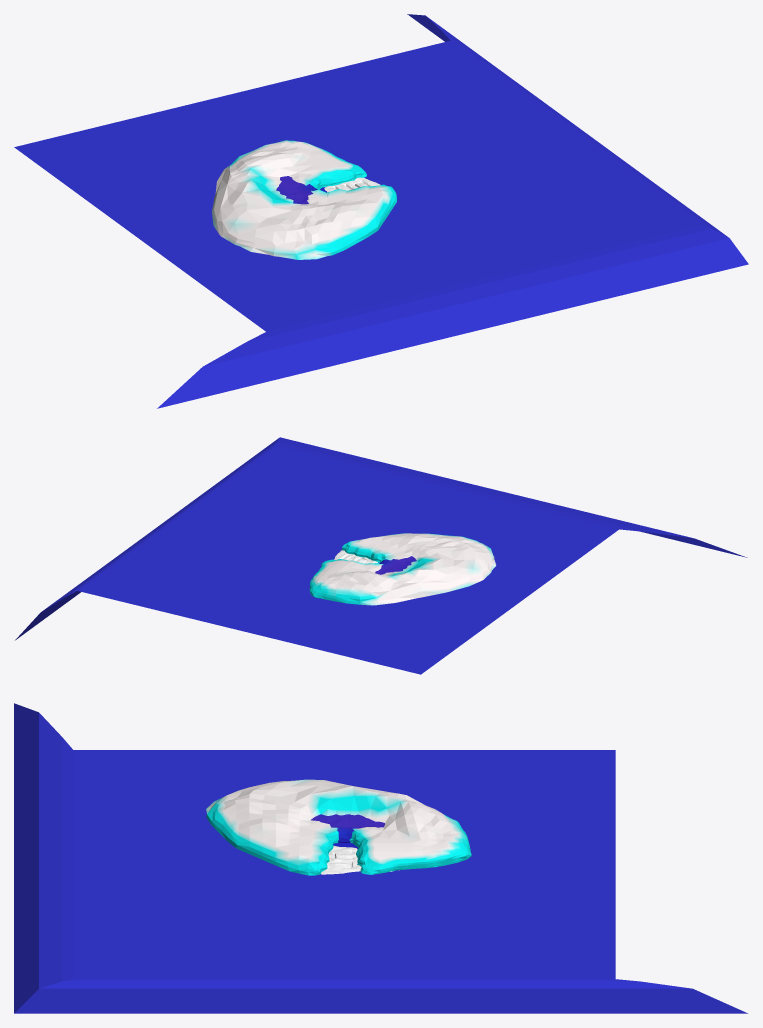
The model's file is beachhead.fbx.
3 renders of one model, top to bottom at view 1: azimuth 30°, elevation 25°; view 2: azimuth 150°, elevation 25°; view 3: azimuth 270°, elevation 25°, orthographic. The views are drawn at different scales.
Visible parts, largest first — view 1: OceanPlane, Island_base, LakeWaterfallPlane; view 2: OceanPlane, Island_base, LakeWaterfallPlane; view 3: OceanPlane, Island_base, LakeWaterfallPlane, MainSandFloor.
Boxes of the visible parts, x1,y1,x2,y2 form: OceanPlane: (14,14,748,408); Island_base: (212,140,396,259); LakeWaterfallPlane: (276,176,317,204); OceanPlane: (15,437,747,674); Island_base: (309,533,496,605); LakeWaterfallPlane: (375,556,416,574); OceanPlane: (14,703,747,1013); Island_base: (206,779,471,875); LakeWaterfallPlane: (311,814,384,842); MainSandFloor: (321,845,399,874).
Bounding box in the file's own units: 135587 × 15123 × 135587.
